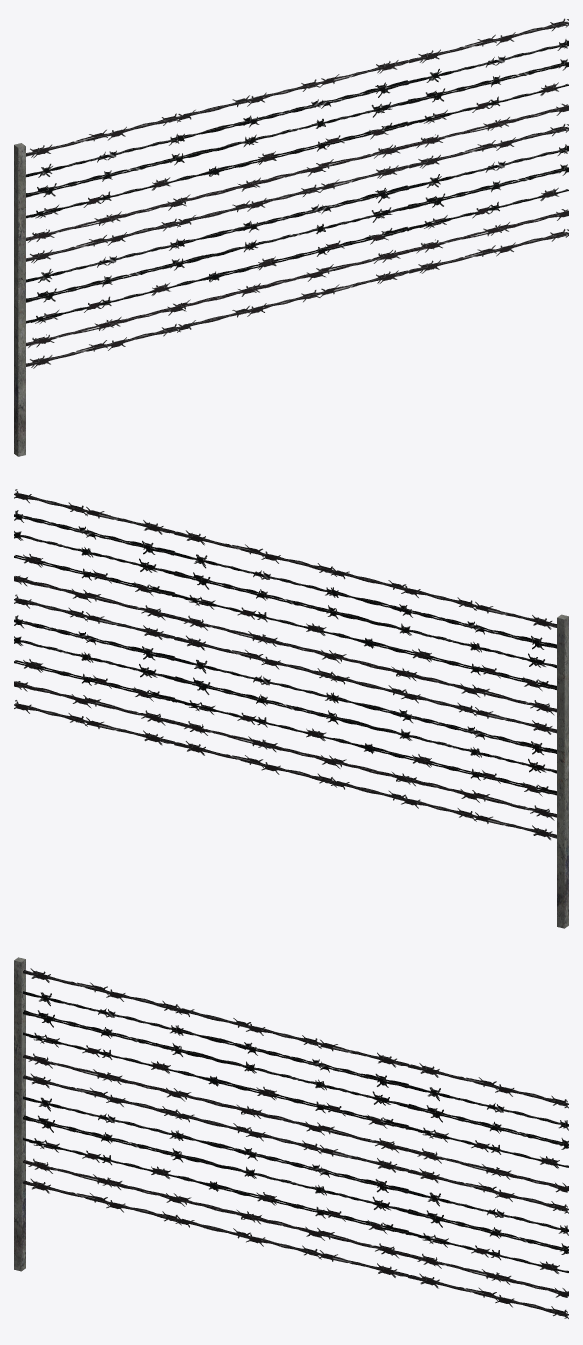
Rendered from Wire_Fence.FBX.
3 renders of one model, top to bottom at view 1: azimuth 30°, elevation 25°; view 2: azimuth 150°, elevation 25°; view 3: azimuth 330°, elevation 25°, orthographic.
Parts seen in each view (by area): view 1: Box01; view 2: Box01; view 3: Box01.
Boxes of the visible parts, bbox=[...] form: Box01: bbox=[14, 18, 568, 456]; Box01: bbox=[14, 489, 568, 928]; Box01: bbox=[14, 957, 568, 1318].
Bounding box in the file's own units: 147 × 78.75 × 2.01.
2 materials, 2 textured.
